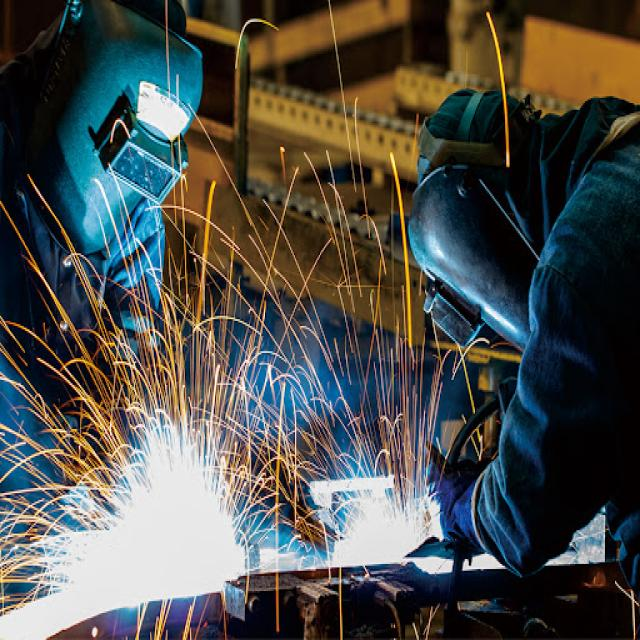welding: (126, 436, 243, 588), (88, 536, 204, 600), (340, 504, 422, 559)
